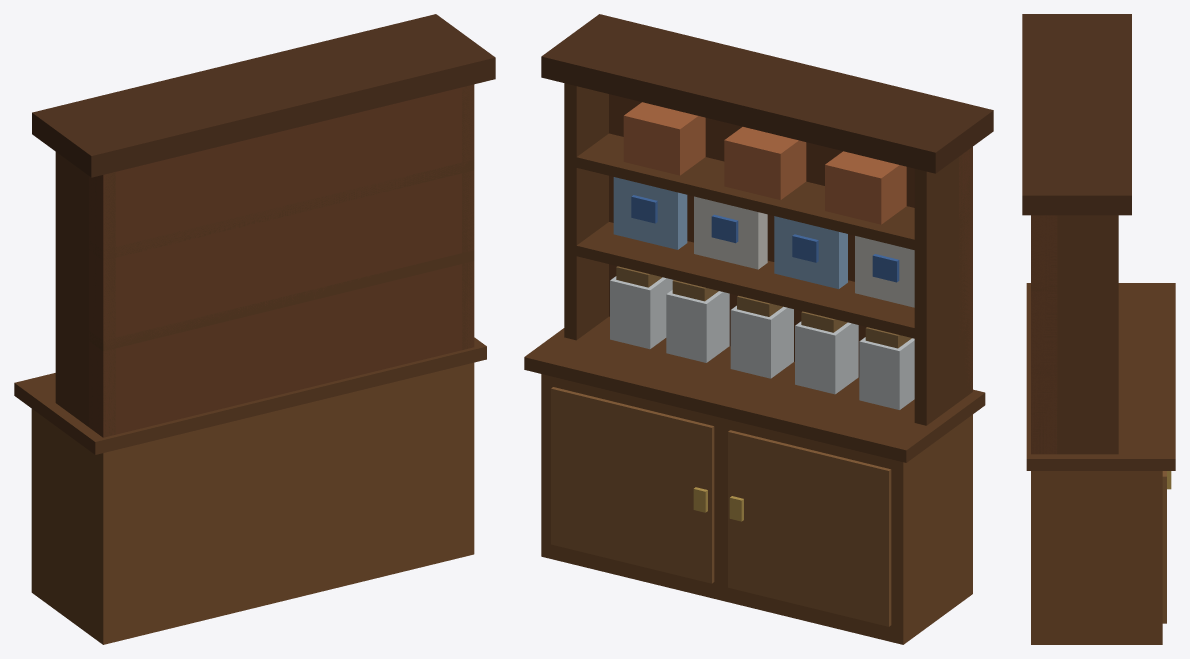
Rendered from xma-dresser.glb.
3 views of the same model, side by side, from view 1: azimuth 30°, elevation 25°; view 2: azimuth 150°, elevation 25°; view 3: azimuth 270°, elevation 25° (orthographic). The views are drawn at different scales.
Parts seen in each view (by area): view 1: box-prop; view 2: box-prop; view 3: box-prop.
Part boxes in pixels (<box>): box-prop: <box>14,14,495,644</box>; box-prop: <box>524,14,993,644</box>; box-prop: <box>1022,14,1175,644</box>.
Bounding box in the file's own units: 1.96 × 2.3 × 0.7.
